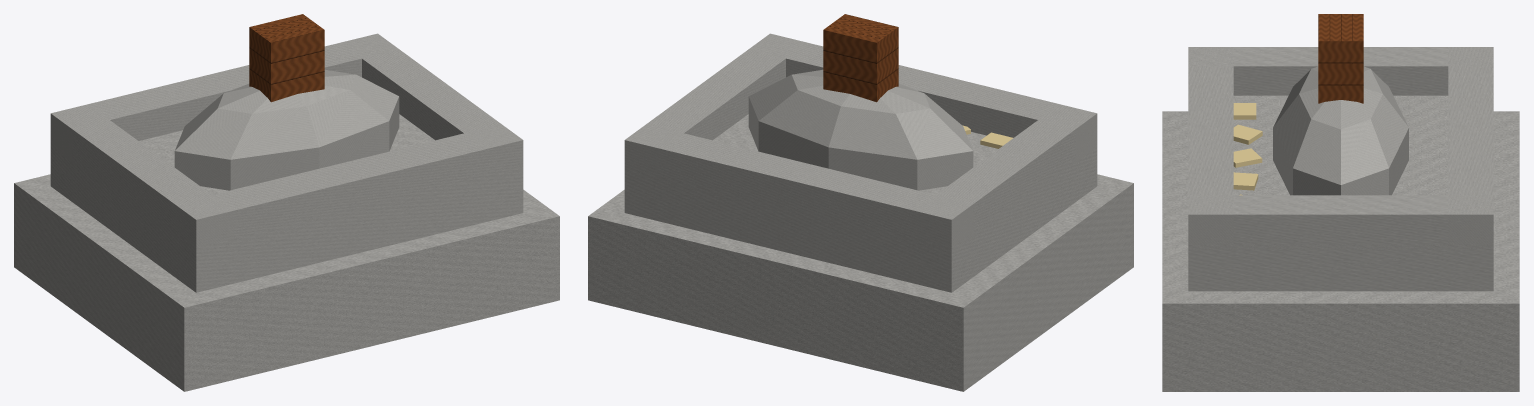
The model's file is andean-terraces-and-stone-village-grinding-stone-1ca5c43d__38274.glb.
The picture shows the model from 3 angles, left to right: view 1: azimuth 30°, elevation 25°; view 2: azimuth 150°, elevation 25°; view 3: azimuth 270°, elevation 25°; orthographic projection. The views are drawn at different scales.
Visible parts, largest first — view 1: grinding-stone-stone, muller/stone, muller/timber; view 2: grinding-stone-stone, muller/stone, muller/timber; view 3: grinding-stone-stone, muller/stone, muller/timber, grinding-stone-thatch.
Boxes of the visible parts, x1,y1,x2,y2 form: grinding-stone-stone: (14, 33, 559, 391); muller/stone: (174, 69, 399, 190); muller/timber: (249, 14, 324, 102); grinding-stone-stone: (588, 33, 1133, 391); muller/stone: (748, 69, 973, 190); muller/timber: (823, 14, 898, 102); grinding-stone-stone: (1162, 47, 1519, 391); muller/stone: (1273, 66, 1408, 195); muller/timber: (1318, 14, 1363, 103); grinding-stone-thatch: (1233, 103, 1262, 195).
Size of the model in its own units: 1.4 by 0.91 by 1.1.
3 materials, 2 textured.
